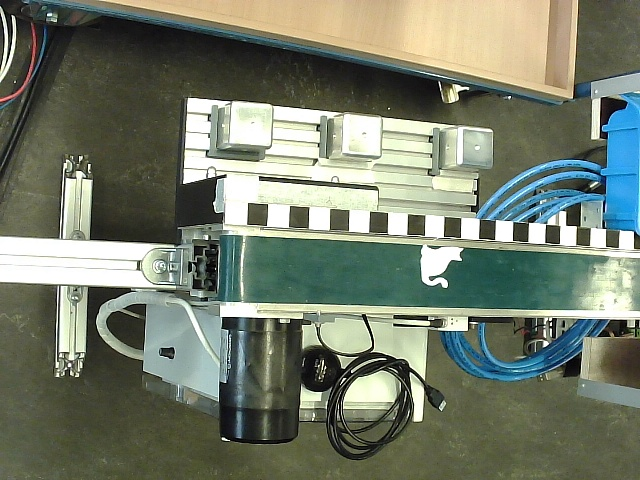cat: (420, 244, 464, 287)
